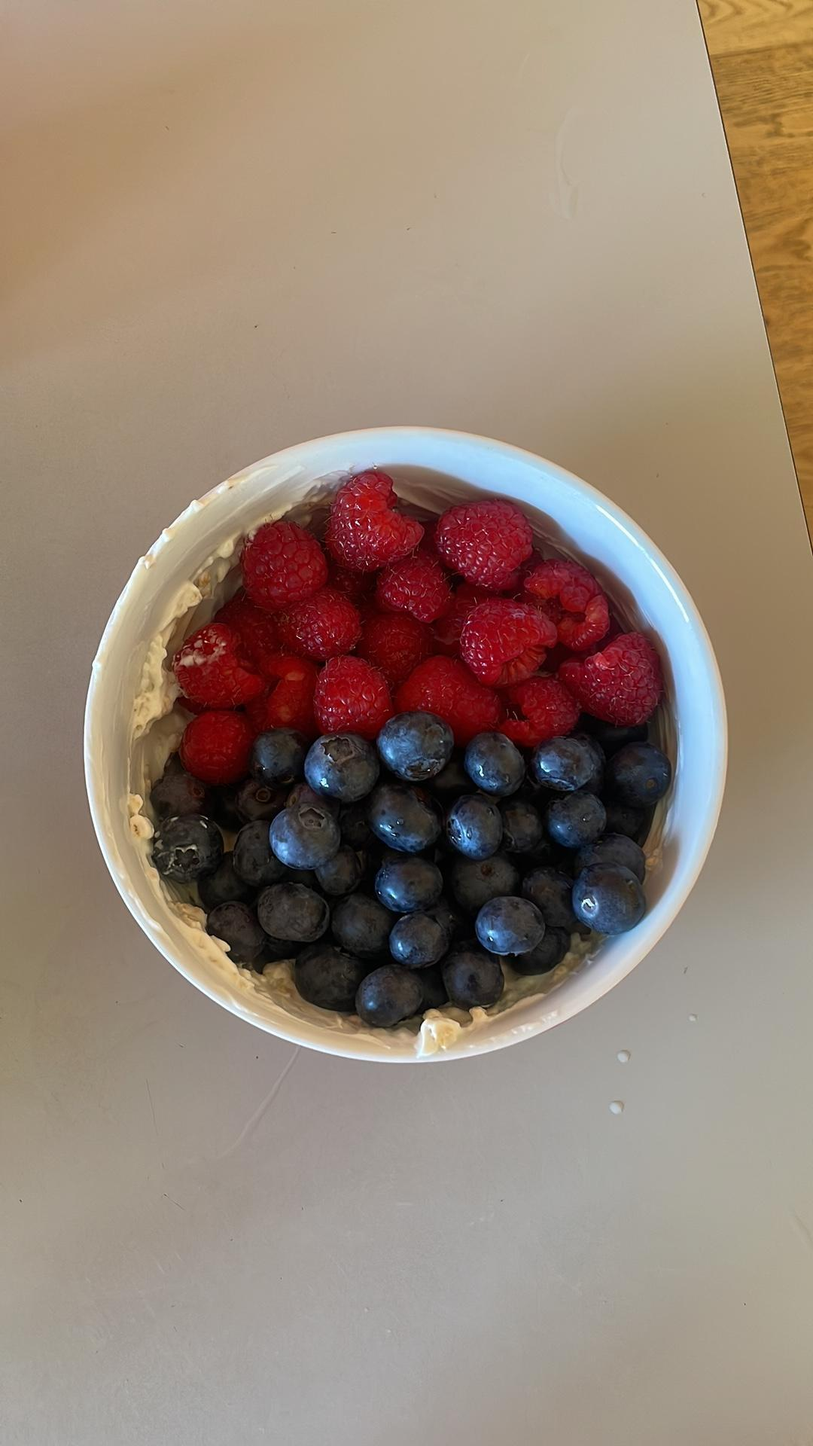blueberry: (305, 728, 384, 802), (270, 802, 337, 877), (382, 712, 454, 781), (575, 867, 649, 933), (374, 787, 438, 861), (146, 817, 219, 881), (251, 880, 327, 939), (286, 952, 361, 1010), (470, 896, 544, 954), (481, 891, 543, 960), (356, 961, 420, 1026), (259, 884, 320, 951), (468, 725, 525, 796), (442, 950, 510, 1007), (333, 895, 387, 964), (532, 734, 602, 787), (370, 859, 441, 911), (613, 741, 669, 805), (550, 791, 611, 845), (535, 860, 577, 937), (142, 768, 213, 813), (580, 830, 649, 876), (447, 793, 495, 855), (456, 855, 518, 903), (233, 819, 279, 883), (213, 901, 257, 966), (246, 725, 303, 775), (500, 801, 556, 851), (553, 792, 606, 843), (393, 917, 445, 962), (241, 768, 279, 821), (320, 845, 360, 894)
raspberry: (460, 593, 557, 686), (566, 631, 667, 720), (325, 472, 413, 573), (165, 622, 262, 705), (435, 502, 527, 589), (403, 653, 500, 734), (270, 584, 362, 655), (540, 560, 614, 644), (363, 545, 448, 617), (245, 522, 318, 605), (315, 654, 388, 734), (236, 653, 315, 724), (172, 713, 249, 778), (498, 676, 580, 734), (366, 616, 425, 675)
